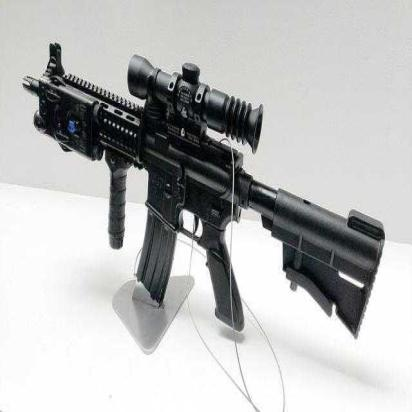Gun: (33, 50, 386, 321)
